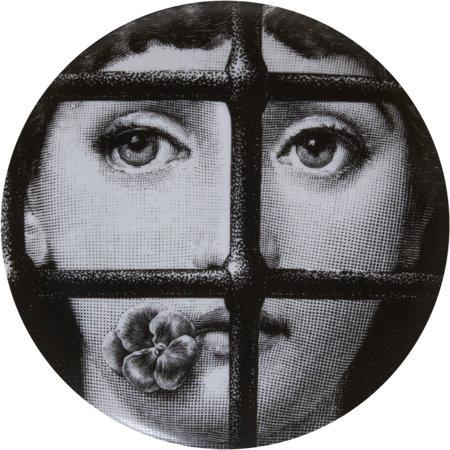person: (28, 24, 421, 428)
